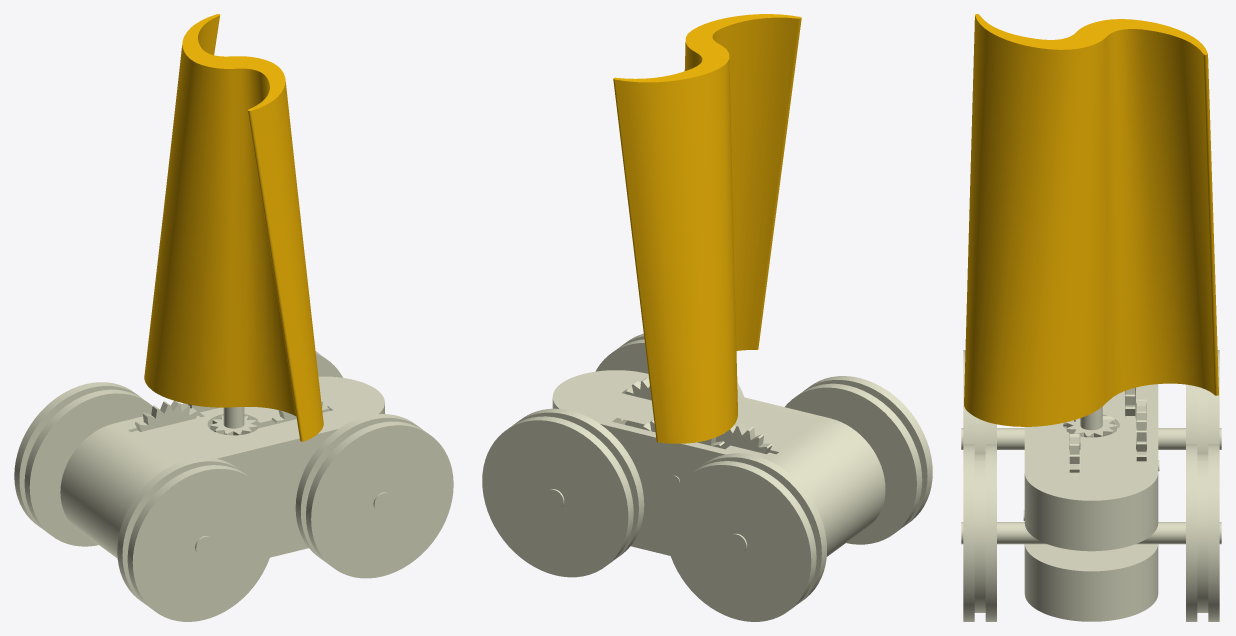
The model's file is _WINDWAGEN.dae.
3 views of the same model, side by side, from view 1: azimuth 30°, elevation 25°; view 2: azimuth 150°, elevation 25°; view 3: azimuth 270°, elevation 25° (orthographic). The views are drawn at different scales.
Visible parts, largest first — view 1: SketchUp (×30); view 2: SketchUp (×31); view 3: SketchUp (×32).
Boxes of the visible parts, <box> form: SketchUp (×30): <box>14,14,453,621</box>; SketchUp (×31): <box>482,14,932,621</box>; SketchUp (×32): <box>961,14,1221,621</box>.
Bounding box in the file's own units: 14.17 × 9.21 × 20.77.
